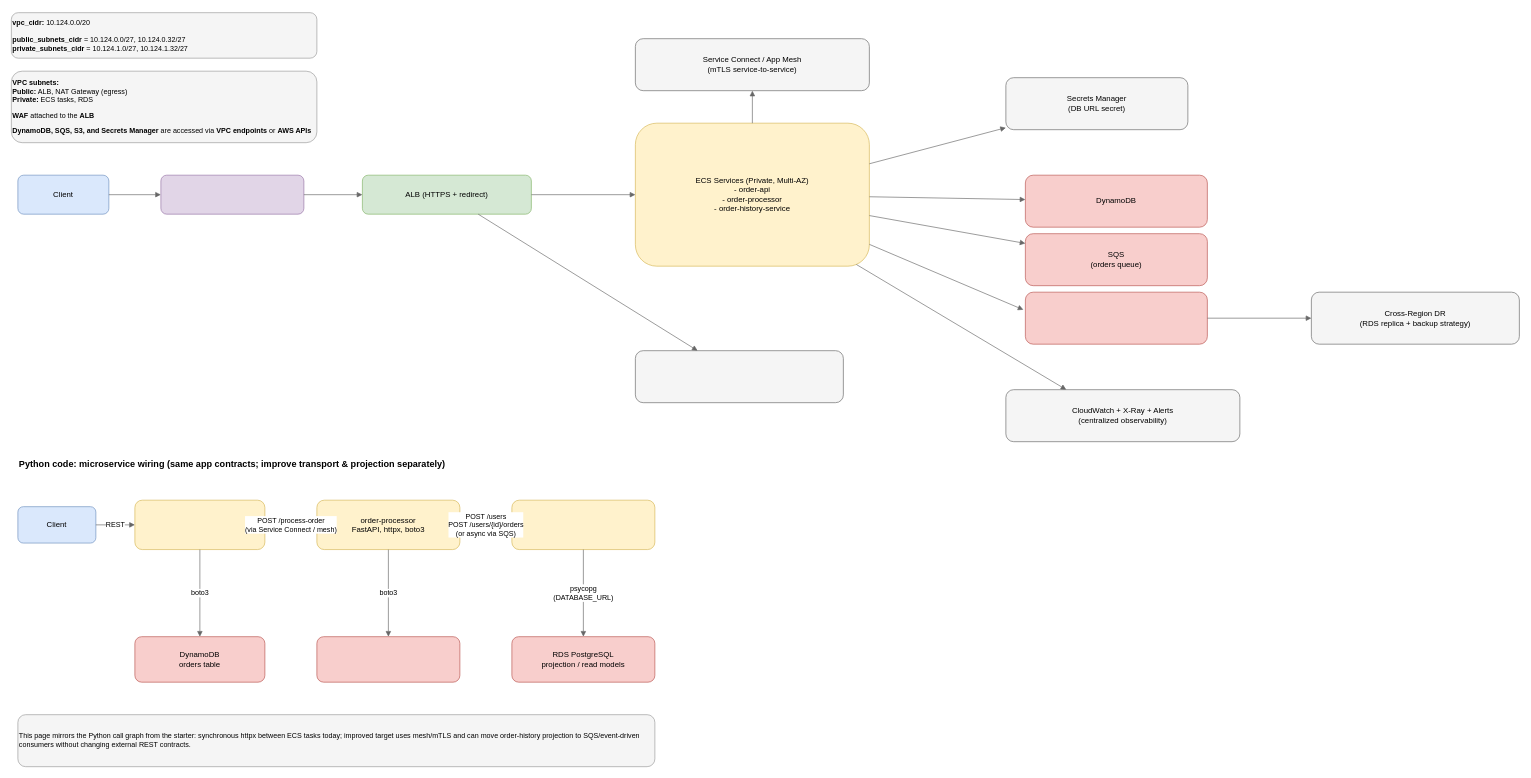
Image size: 1531x778. Some labels were removed from this diagram. The shapes that lost their labels are listed below. From the top down, each one's centre as x and y in pixels, then its label:
At (x=232, y=194): "AWS WAF (optional)".
At (x=1116, y=318): "RDS PostgreSQL (private, Multi-AZ)".
At (x=739, y=376): "S3 ALB Access Logs (encrypted + lifecycle)".
At (x=199, y=525): "order-api FastAPI, httpx, boto3".
At (x=583, y=525): "order-history-service FastAPI, psycopg".
At (x=388, y=659): "DynamoDB inventory table".
